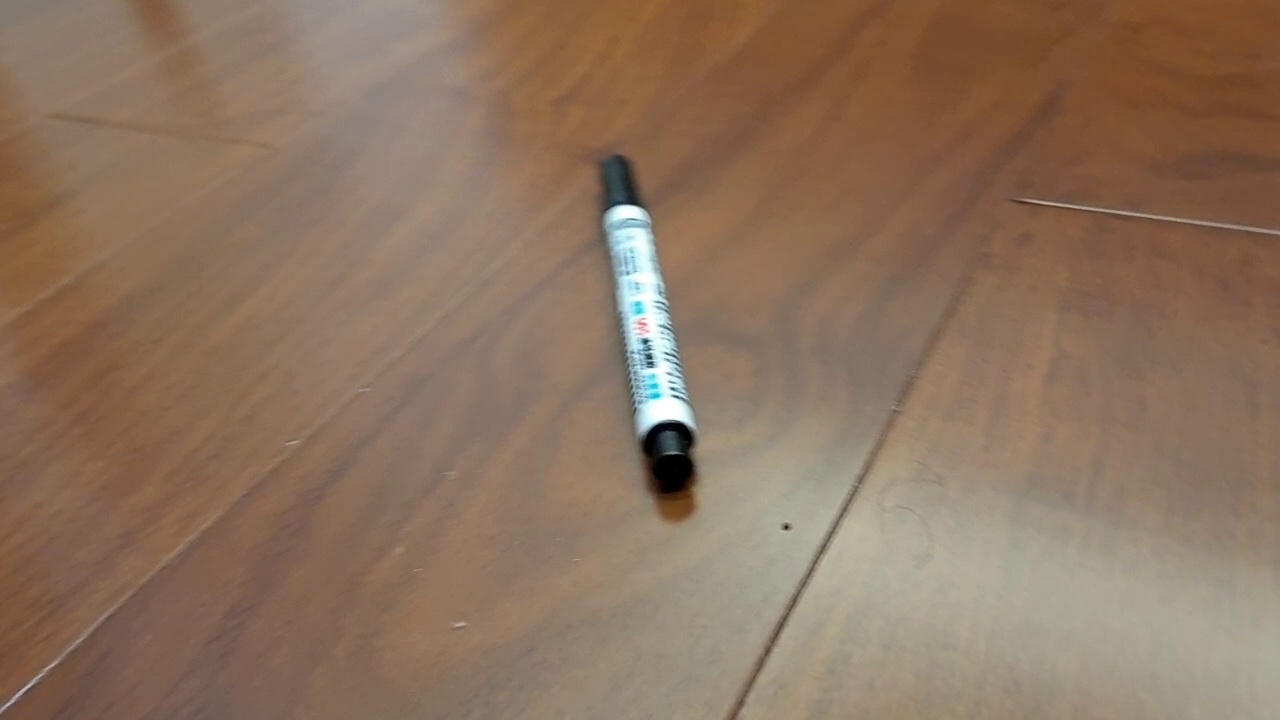pen: (595, 151, 698, 492)
